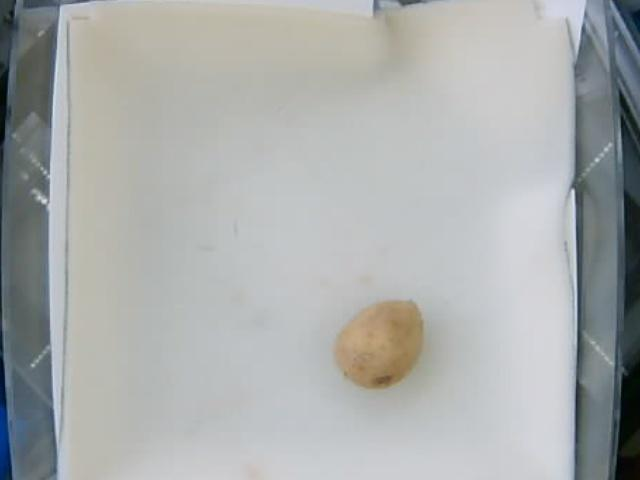Potato: (334, 301, 421, 389)
